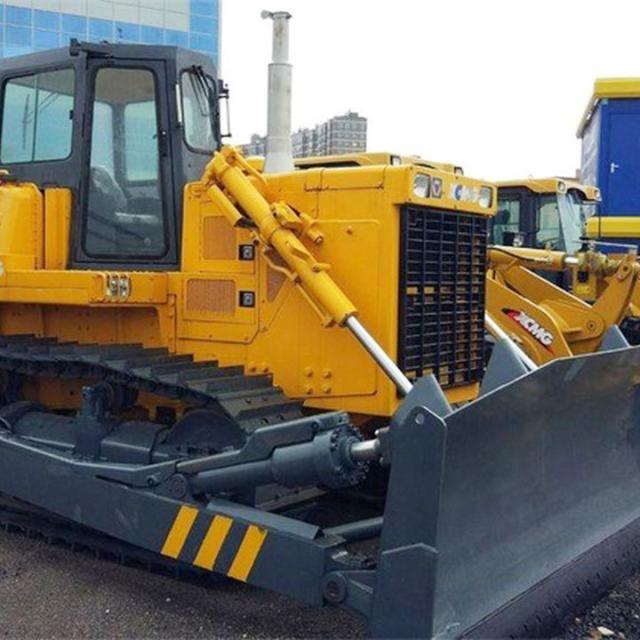buldozerpayloadergrader: (0, 7, 635, 630)
